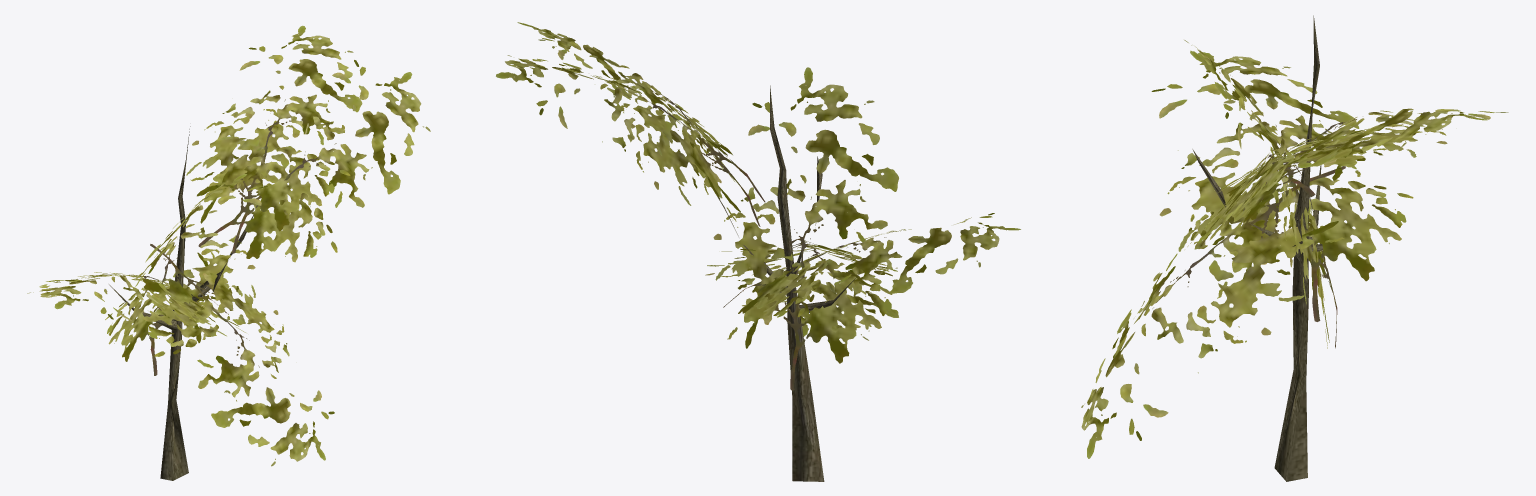
3 renders of one model, left to right at view 1: azimuth 30°, elevation 25°; view 2: azimuth 150°, elevation 25°; view 3: azimuth 270°, elevation 25°, orthographic. The views are drawn at different scales.
Parts seen in each view (by area): view 1: Treemedium; view 2: Treemedium; view 3: Treemedium.
Boxes of the visible parts, left/top/right/bottom form: Treemedium: left=27, top=25, right=430, bottom=480; Treemedium: left=496, top=22, right=1020, bottom=481; Treemedium: left=1081, top=15, right=1508, bottom=481.
Size of the model in its own units: 10.44 by 8.2 by 6.77.
Materials: 1 (1 with a texture image).
